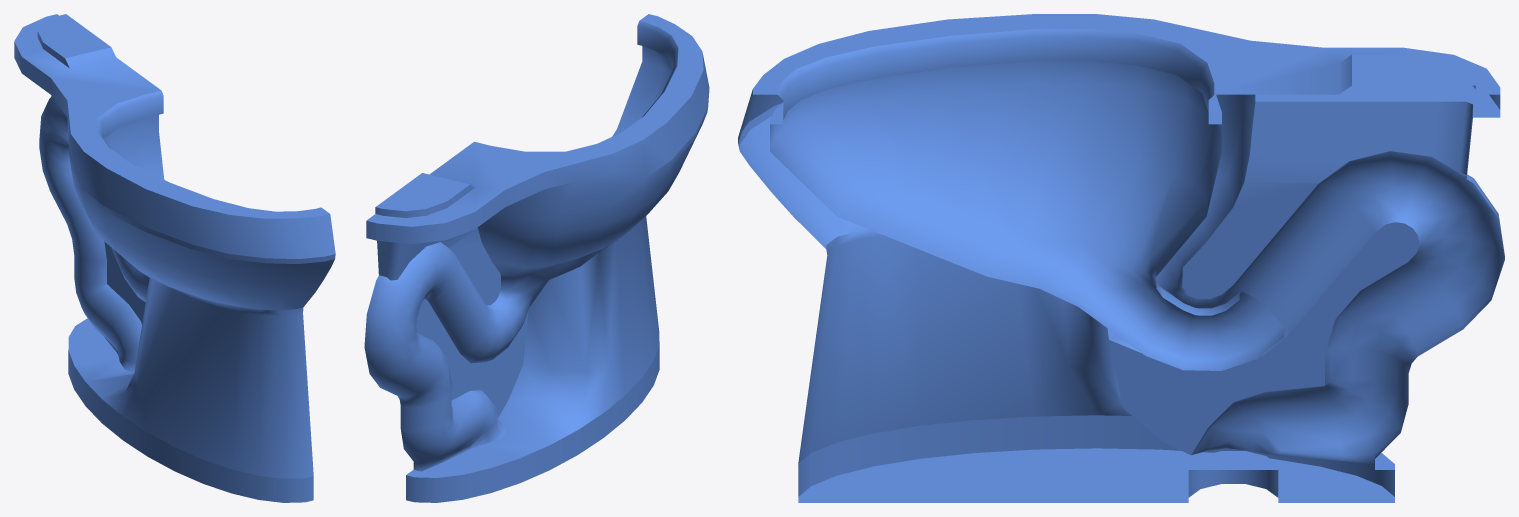
File: original-11.obj
3 views of the same model, side by side, from view 1: azimuth 30°, elevation 25°; view 2: azimuth 150°, elevation 25°; view 3: azimuth 270°, elevation 25° (orthographic). The views are drawn at different scales.
Parts seen in each view (by area): view 1: Bowl1/Bowl/mesh13/mesh13-geometry#mesh13-geometry; view 2: Bowl1/Bowl/mesh13/mesh13-geometry#mesh13-geometry; view 3: Bowl1/Bowl/mesh13/mesh13-geometry#mesh13-geometry.
Part boxes in pixels (x1=…): Bowl1/Bowl/mesh13/mesh13-geometry#mesh13-geometry: x1=14, y1=14, x2=335, y2=502; Bowl1/Bowl/mesh13/mesh13-geometry#mesh13-geometry: x1=364, y1=14, x2=709, y2=502; Bowl1/Bowl/mesh13/mesh13-geometry#mesh13-geometry: x1=738, y1=14, x2=1504, y2=502.
Size of the model in its own units: 0.3307 by 0.7735 by 1.29.
